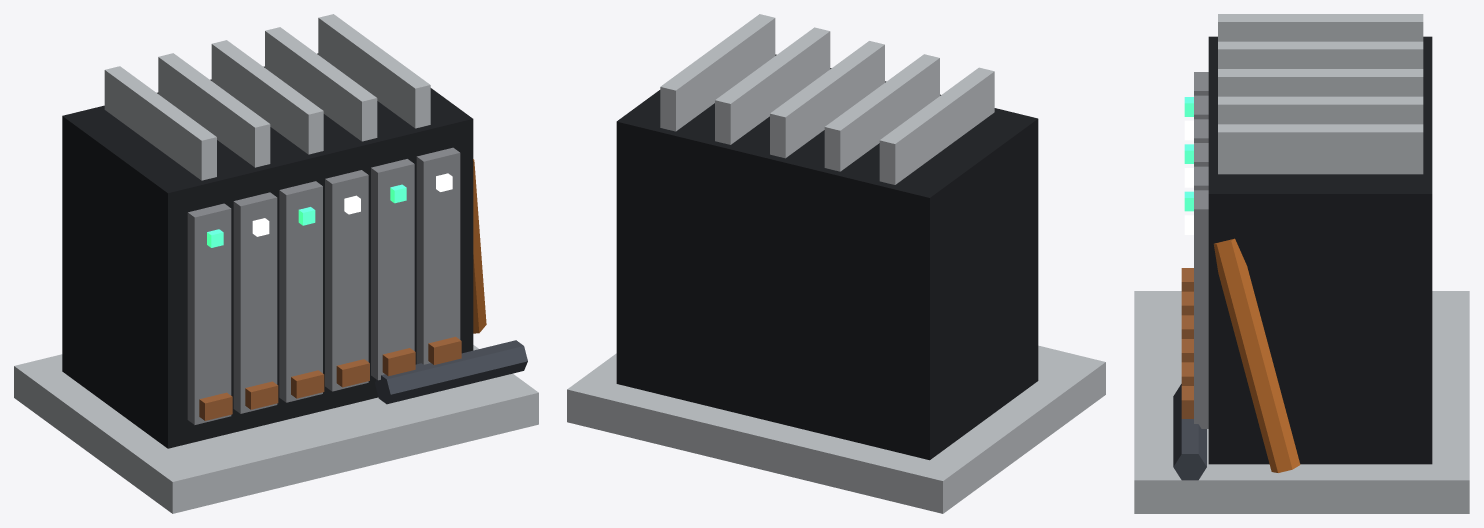
Rendered from data-rad750-ssr.glb.
3 renders of one model, left to right at view 1: azimuth 30°, elevation 25°; view 2: azimuth 150°, elevation 25°; view 3: azimuth 270°, elevation 25°, orthographic. The views are drawn at different scales.
Visible parts, largest first — view 1: DataRad750Ssr_Aluminum, DataRad750Ssr_HullBlack, DataRad750Ssr_Titanium, DataRad750Ssr_Copper, DataRad750Ssr_Strap, DataRad750Ssr_Foam, DataRad750Ssr_LedGreen, DataRad750Ssr_Lamp; view 2: DataRad750Ssr_HullBlack, DataRad750Ssr_Aluminum; view 3: DataRad750Ssr_Aluminum, DataRad750Ssr_HullBlack, DataRad750Ssr_Foam, DataRad750Ssr_Titanium, DataRad750Ssr_Strap, DataRad750Ssr_Copper, DataRad750Ssr_LedGreen, DataRad750Ssr_Lamp.
Boxes of the visible parts, x1,y1,x2,y2 form: DataRad750Ssr_Aluminum: (14,14,538,513); DataRad750Ssr_HullBlack: (62,53,473,448); DataRad750Ssr_Titanium: (187,147,460,424); DataRad750Ssr_Copper: (199,336,461,420); DataRad750Ssr_Strap: (375,340,527,404); DataRad750Ssr_Foam: (473,159,486,333); DataRad750Ssr_LedGreen: (207,184,406,247); DataRad750Ssr_Lamp: (252,173,452,236); DataRad750Ssr_HullBlack: (616,54,1038,460); DataRad750Ssr_Aluminum: (567,14,1105,513); DataRad750Ssr_Aluminum: (1134,14,1469,513); DataRad750Ssr_HullBlack: (1208,36,1432,464); DataRad750Ssr_Foam: (1213,238,1300,472); DataRad750Ssr_Titanium: (1194,72,1208,428); DataRad750Ssr_Strap: (1173,384,1206,480); DataRad750Ssr_Copper: (1181,268,1193,418); DataRad750Ssr_LedGreen: (1184,97,1193,211); DataRad750Ssr_Lamp: (1184,120,1193,234).
Size of the model in its own units: 0.5006 by 0.41 by 0.36.
